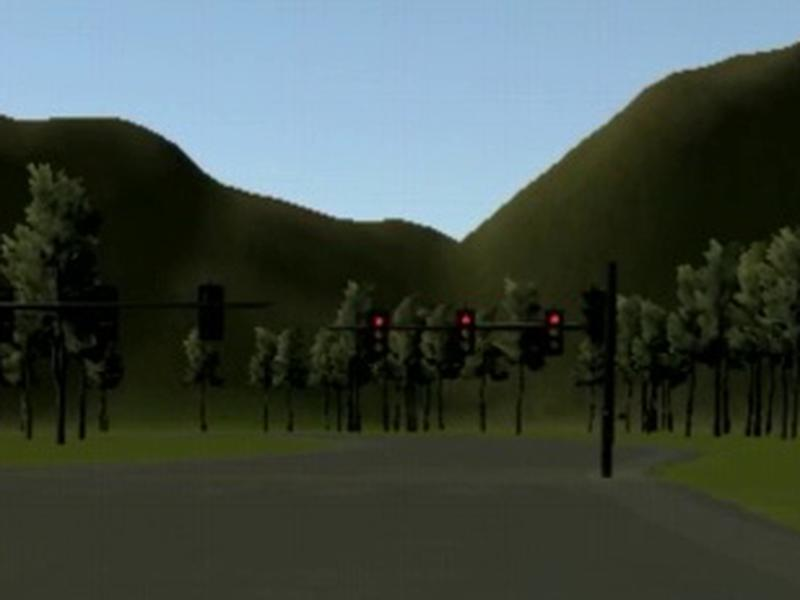Red: (545, 310, 564, 357), (455, 309, 474, 356), (368, 311, 387, 358)
